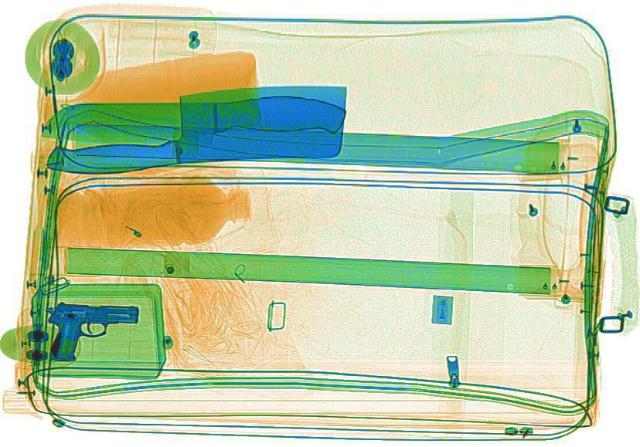Gun: (44, 300, 138, 361)
Knife: (36, 79, 354, 176), (32, 95, 346, 143)
